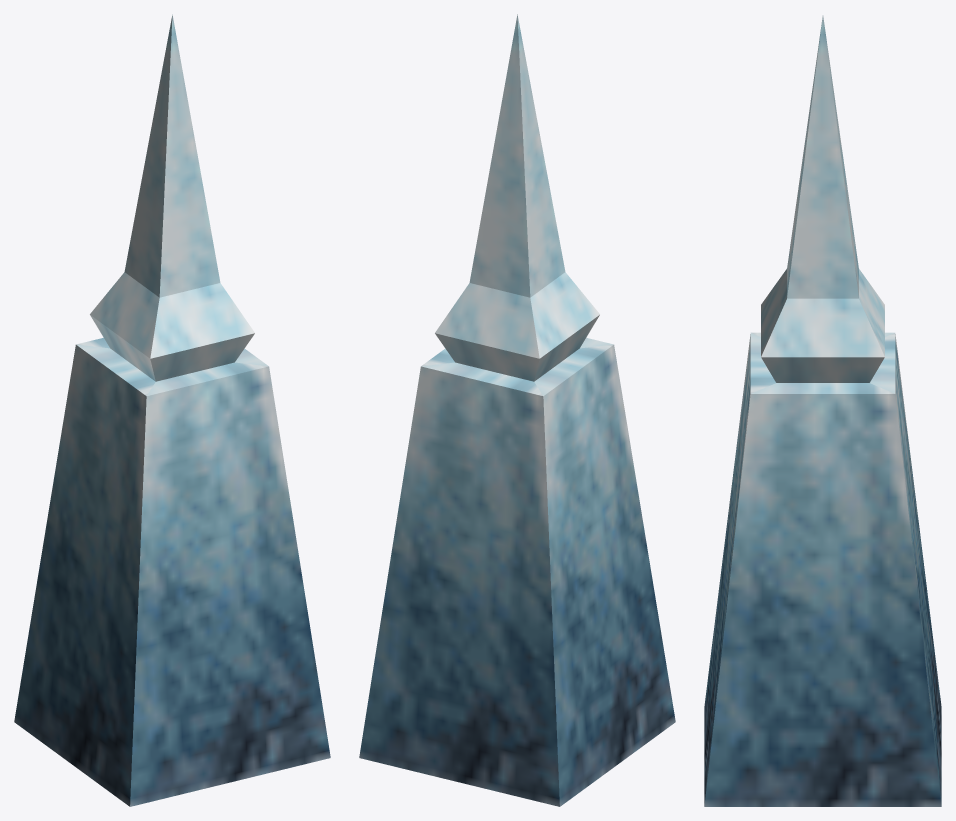
3 views of the same model, side by side, from view 1: azimuth 30°, elevation 25°; view 2: azimuth 150°, elevation 25°; view 3: azimuth 270°, elevation 25° (orthographic). The views are drawn at different scales.
Visible parts, largest first — view 1: wj49; view 2: wj49; view 3: wj49.
Boxes of the visible parts, x1=… form: wj49: x1=14, y1=14, x2=330, y2=806; wj49: x1=359, y1=14, x2=675, y2=806; wj49: x1=704, y1=15, x2=941, y2=806.
Bounding box in the file's own units: 159 × 551 × 159.
1 material, 1 textured.
